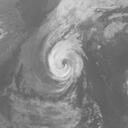cyclone: (47, 38, 85, 83)
